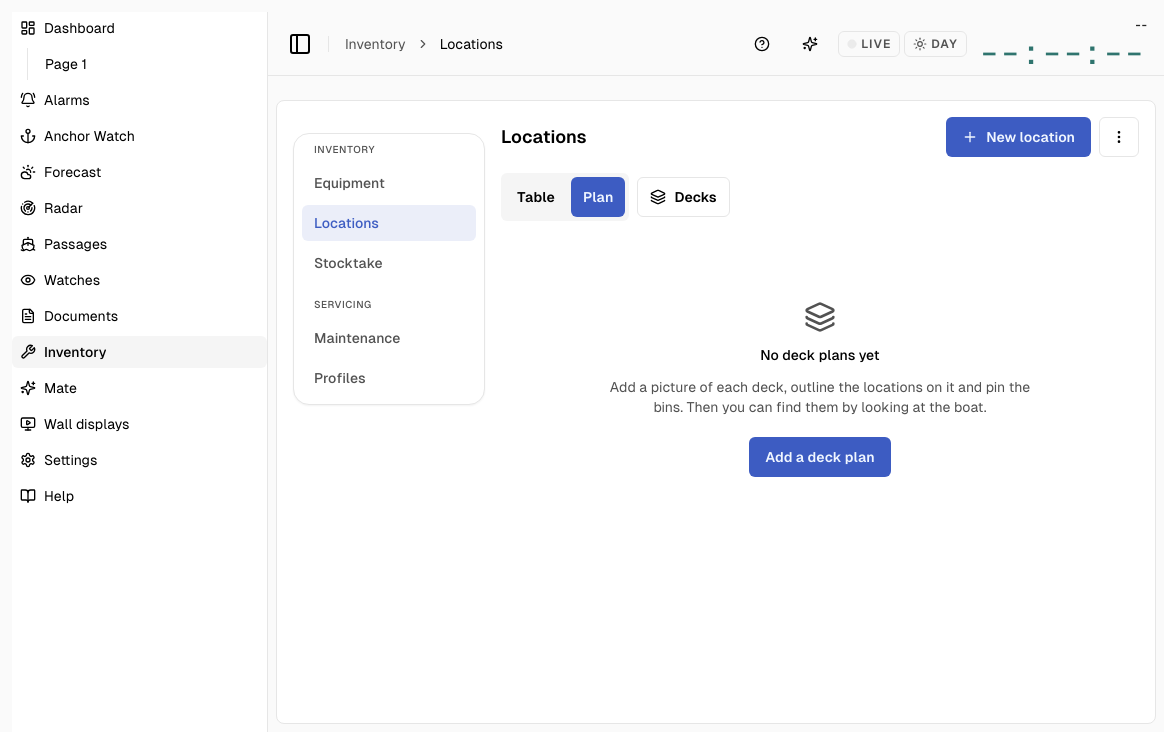
Test: App: deck plans under Locations (ADR 0156) › opens the Plan view from the URL, and switching to Table puts the URL back
The width and height of the screenshot is (1164, 732).
Expected: the text "No deck plans yet" is shown, [760,345,880,365]
Click the button "Table" at {"x": 536, "y": 197}, box [505,177,567,217]
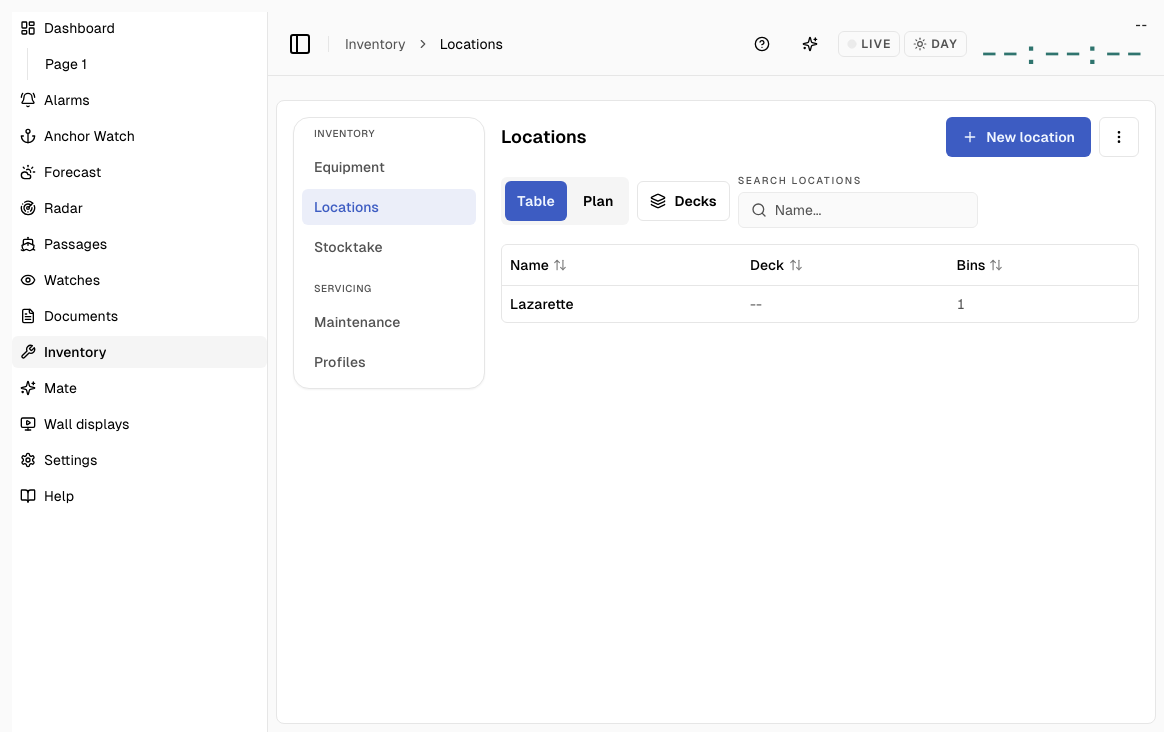
Expected: the text "Lazarette" is shown, [510,296,574,312]
